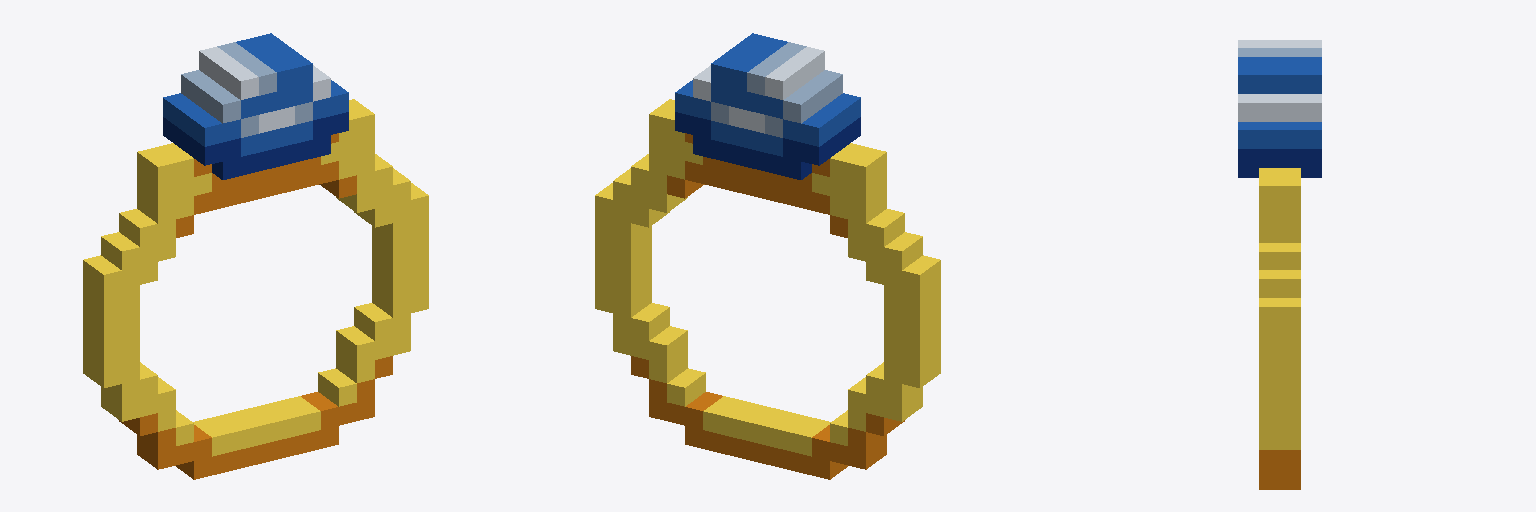
File: GoldRing.obj
3 views of the same model, side by side, from view 1: azimuth 30°, elevation 25°; view 2: azimuth 150°, elevation 25°; view 3: azimuth 270°, elevation 25° (orthographic).
Bounding box in the file's own units: 18 × 21 × 4.